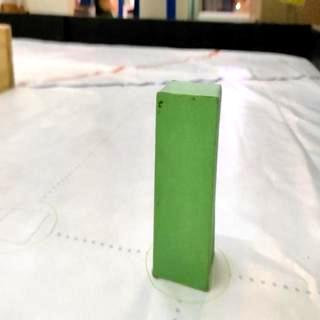greenbox: (152, 78, 225, 294)
